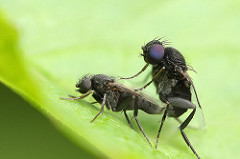phorid fly: (137, 29, 220, 157), (58, 63, 172, 141)
